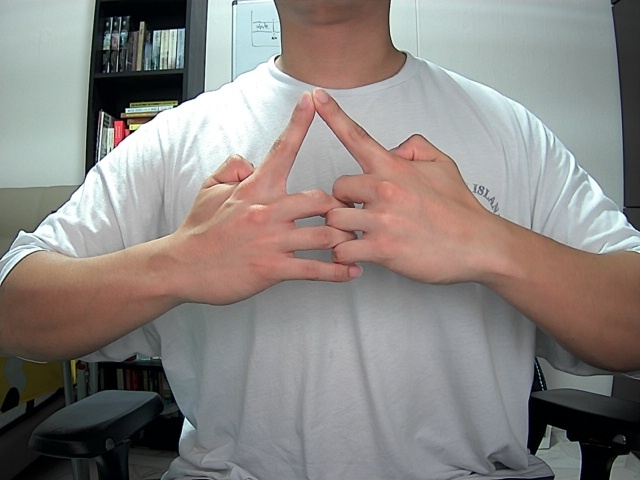Horse: (184, 93, 487, 315)
